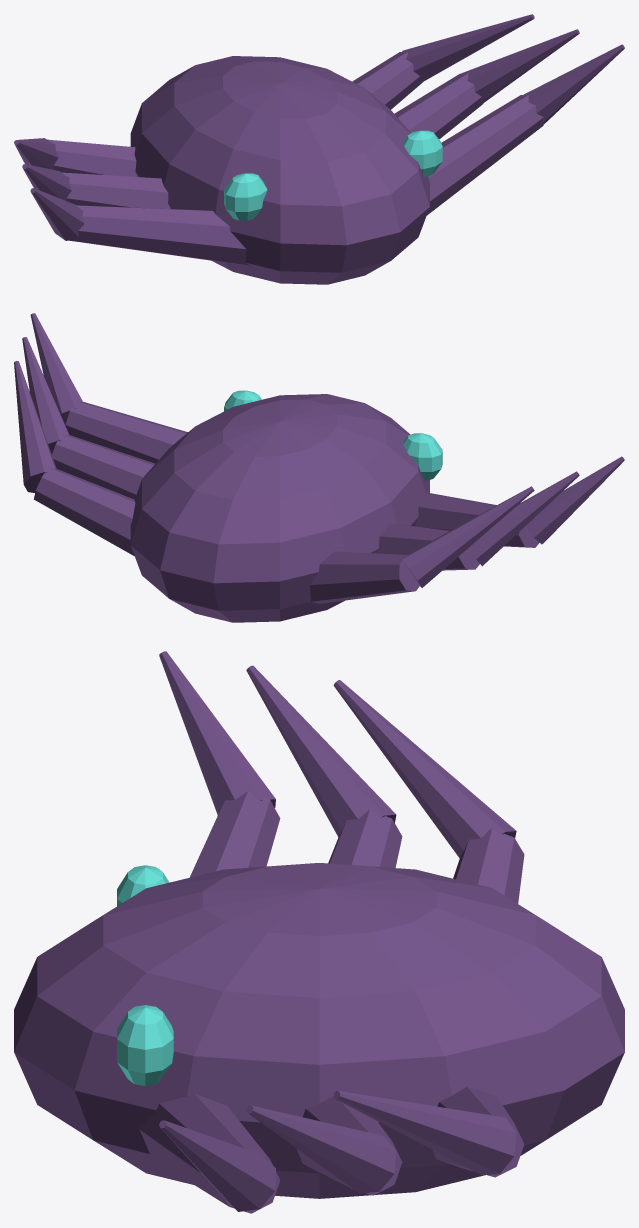
File: monster_krakenling.glb
The picture shows the model from 3 angles, top to bottom: view 1: azimuth 30°, elevation 25°; view 2: azimuth 150°, elevation 25°; view 3: azimuth 270°, elevation 25°; orthographic projection. The views are drawn at different scales.
Visible parts, largest first — view 1: monster_kraken; view 2: monster_kraken; view 3: monster_kraken.
Boxes of the visible parts, <box> form: monster_kraken: <box>14,14,624,284</box>; monster_kraken: <box>14,313,624,622</box>; monster_kraken: <box>14,651,624,1213</box>.
Size of the model in its own units: 6.44 by 1.82 by 3.51.
